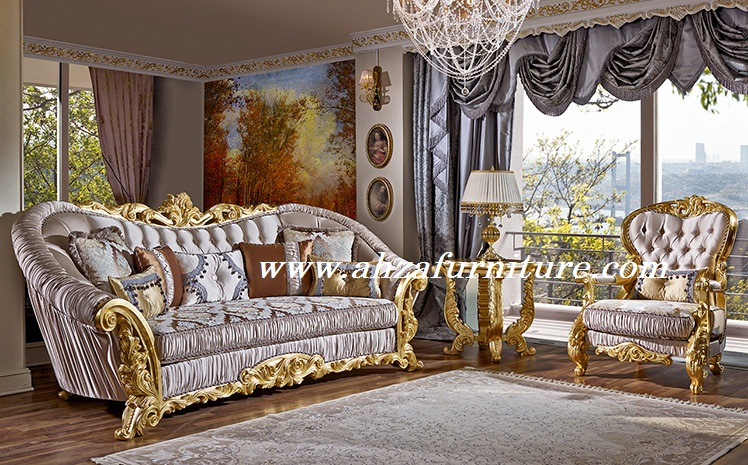Carving Chair: (8, 187, 424, 409), (587, 200, 733, 399)
